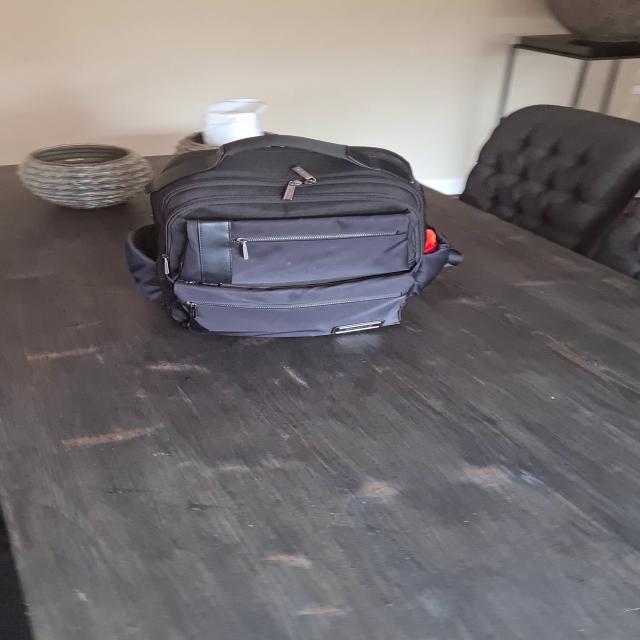backpack: (112, 127, 468, 345)
